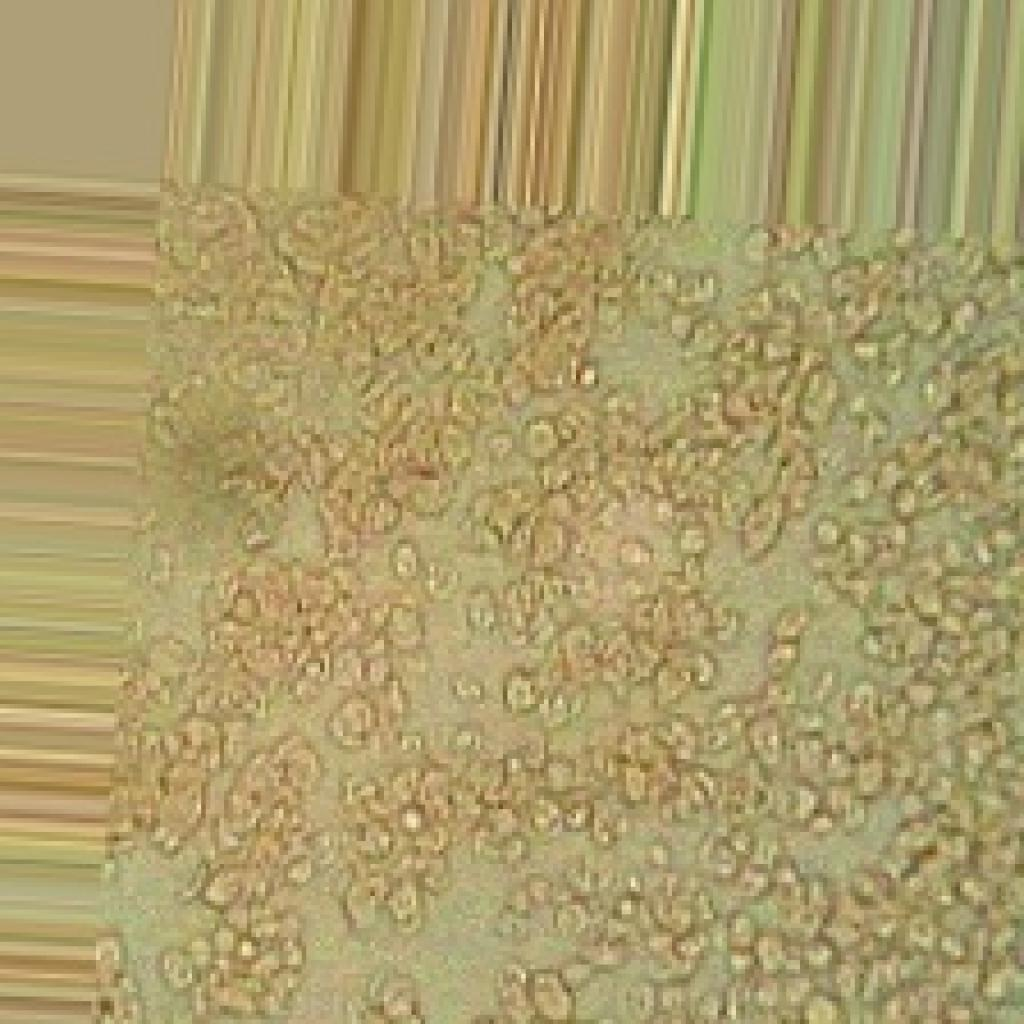Yeast: (155, 186, 1024, 1024)
